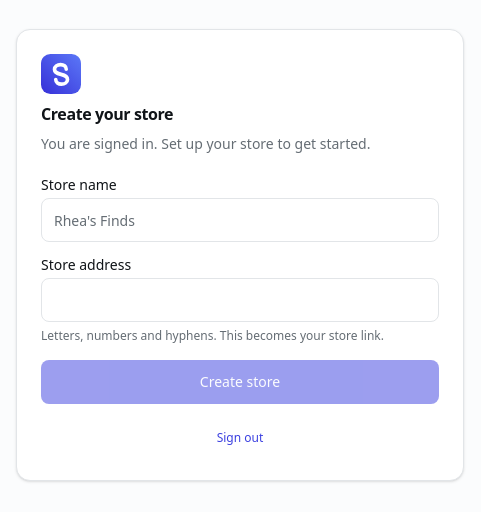
Scenario: the store address field › never proposes an address that could not resolve
The image size is (481, 512).
Type "ab" into the field labelled "Store address". click: (240, 300)
box: [41,278,439,322]
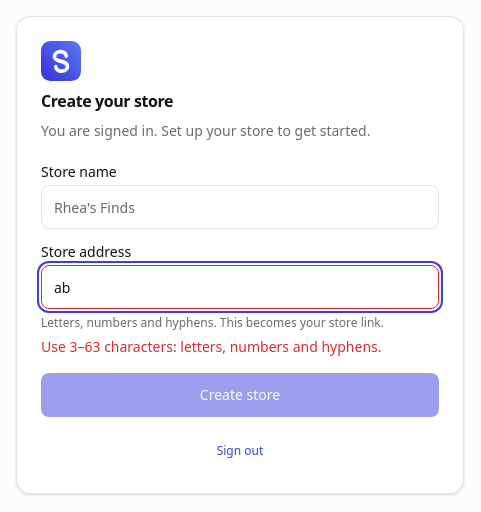
Check: the text ".selld.vercel.app" is not shown
Type "c" into the field labelled "Store address". click: (240, 287)
box: [41,265,439,309]
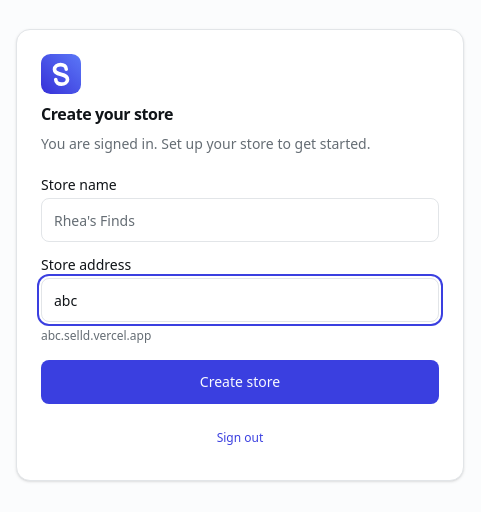
Check: the text "abc.selld.vercel.app" is shown, box [41,327,151,344]
